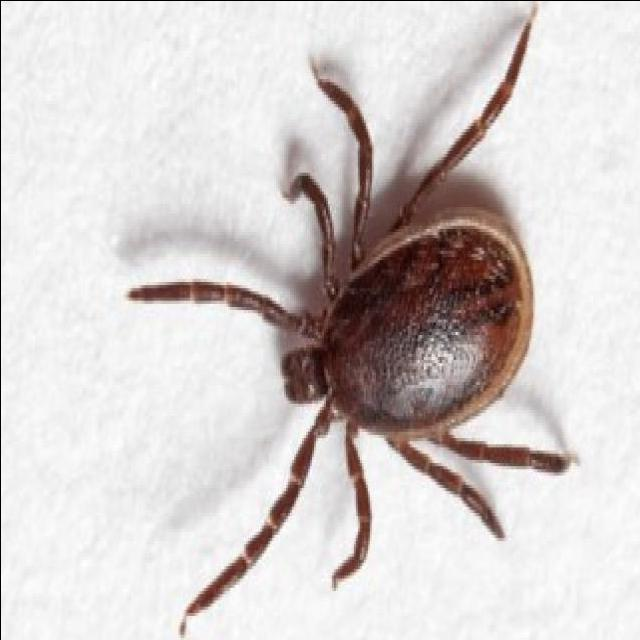Ixodes Ricinus-M: (126, 19, 574, 621)
